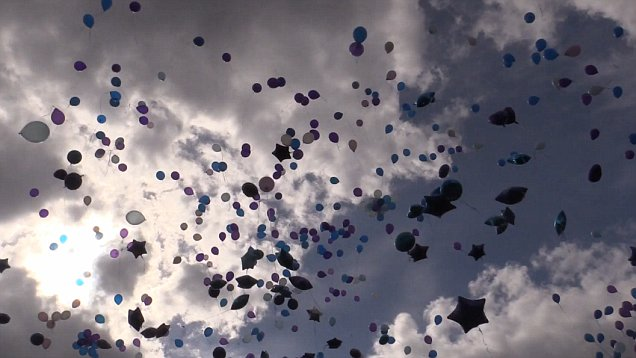Balloon: (447, 295, 489, 334), (421, 195, 456, 219), (20, 121, 51, 142), (495, 186, 528, 205), (489, 107, 517, 127), (440, 179, 462, 201), (552, 209, 568, 237), (394, 232, 416, 252), (128, 239, 148, 259), (408, 244, 429, 262), (468, 243, 487, 262), (272, 144, 291, 162), (289, 276, 313, 290), (64, 173, 83, 190), (230, 294, 249, 311), (499, 207, 516, 225), (126, 209, 145, 225), (241, 251, 257, 270), (416, 92, 435, 108), (306, 306, 322, 322), (588, 164, 602, 182), (51, 109, 65, 125), (259, 177, 275, 191), (484, 216, 506, 226), (67, 150, 82, 164), (349, 42, 364, 56), (353, 27, 367, 42), (242, 183, 258, 196), (326, 338, 343, 350), (82, 14, 95, 29), (564, 45, 580, 57), (544, 49, 559, 61), (30, 333, 44, 345), (438, 164, 450, 178), (212, 347, 227, 358), (96, 339, 112, 349), (584, 65, 599, 75), (384, 40, 395, 53), (619, 307, 632, 318), (612, 26, 623, 39), (581, 93, 592, 106), (129, 1, 141, 12), (268, 78, 280, 89), (303, 132, 314, 144), (535, 38, 546, 50), (612, 86, 623, 98), (74, 61, 87, 71), (349, 348, 362, 358), (590, 128, 600, 141), (526, 95, 539, 105), (531, 52, 541, 65), (54, 169, 65, 180), (38, 311, 49, 322), (524, 12, 535, 23), (348, 140, 358, 152), (308, 90, 321, 99), (409, 204, 422, 213), (101, 1, 112, 11), (95, 314, 106, 324), (281, 134, 291, 145), (293, 149, 303, 160), (288, 299, 298, 310), (274, 295, 285, 305), (329, 132, 339, 143), (193, 37, 205, 46), (385, 223, 394, 235), (606, 285, 618, 294), (559, 78, 571, 87), (111, 77, 121, 87), (294, 93, 304, 103), (109, 249, 119, 259), (203, 327, 213, 337), (584, 333, 594, 343), (470, 103, 480, 113), (503, 58, 513, 68), (114, 294, 123, 305), (52, 311, 61, 322), (1, 313, 10, 324), (379, 334, 388, 345), (386, 71, 397, 80), (593, 309, 602, 320), (626, 150, 635, 161), (137, 106, 149, 114), (329, 177, 341, 185), (70, 97, 80, 106), (139, 116, 148, 126), (95, 149, 105, 158), (39, 209, 49, 218), (61, 311, 71, 320), (453, 241, 462, 251), (375, 167, 385, 176), (231, 230, 240, 240), (320, 222, 329, 232), (615, 321, 624, 331), (110, 91, 121, 99), (120, 228, 128, 239), (199, 196, 210, 204), (267, 208, 275, 219), (496, 159, 507, 167), (222, 53, 231, 62), (156, 171, 165, 180), (171, 171, 180, 180), (30, 188, 39, 197), (96, 131, 105, 140), (175, 339, 184, 348), (221, 193, 230, 202), (236, 208, 245, 217), (291, 139, 300, 148), (428, 349, 437, 358), (353, 188, 362, 197), (315, 203, 324, 212), (257, 224, 266, 233), (290, 231, 299, 240), (385, 125, 394, 134), (373, 189, 382, 198), (604, 306, 613, 315), (111, 64, 121, 72), (110, 99, 120, 107), (212, 144, 222, 152), (252, 84, 262, 92), (144, 295, 152, 305), (184, 187, 194, 195), (241, 149, 251, 157), (434, 315, 442, 325), (219, 338, 229, 346), (328, 317, 336, 327), (226, 271, 234, 281), (266, 254, 276, 262), (401, 103, 411, 111), (376, 212, 384, 222), (552, 293, 560, 303), (391, 153, 398, 164), (158, 72, 166, 81), (111, 155, 120, 163), (97, 115, 106, 123), (84, 196, 92, 205), (59, 234, 67, 243), (102, 137, 110, 146), (173, 256, 182, 264), (72, 299, 80, 308), (133, 338, 141, 347), (116, 142, 125, 150), (219, 162, 227, 171), (193, 233, 202, 241), (250, 202, 259, 210), (274, 171, 282, 180), (424, 336, 432, 345), (369, 323, 377, 332), (250, 327, 259, 335), (219, 298, 227, 307), (333, 202, 342, 210), (196, 253, 204, 262), (203, 277, 211, 286), (271, 230, 280, 238), (263, 293, 272, 301), (324, 251, 332, 260), (310, 120, 319, 128), (397, 82, 405, 91), (419, 154, 428, 162), (437, 144, 445, 153), (383, 195, 391, 204), (359, 235, 368, 243), (219, 232, 226, 242), (272, 273, 279, 283), (275, 241, 285, 248), (597, 333, 604, 343), (84, 329, 92, 337), (79, 347, 87, 355), (116, 339, 124, 347), (211, 247, 219, 255), (352, 81, 360, 89), (372, 98, 380, 106), (447, 129, 455, 137), (341, 274, 349, 282), (118, 164, 127, 171), (404, 346, 411, 355), (257, 232, 266, 239), (213, 274, 222, 281), (257, 279, 264, 288), (281, 310, 290, 317), (317, 271, 326, 278), (309, 229, 318, 236), (334, 112, 343, 119), (71, 143, 79, 150), (96, 232, 103, 240), (47, 320, 54, 328), (180, 223, 188, 230), (195, 217, 203, 224), (291, 162, 298, 170), (247, 311, 255, 318), (291, 325, 298, 333), (275, 193, 283, 200), (266, 281, 273, 289), (283, 269, 290, 277), (356, 119, 363, 127), (408, 111, 416, 118), (403, 148, 410, 156), (432, 123, 439, 131), (356, 245, 363, 253), (342, 219, 349, 227), (343, 231, 351, 238), (348, 225, 355, 233), (354, 295, 361, 303), (359, 274, 366, 282), (50, 243, 57, 250), (93, 226, 100, 233), (206, 169, 213, 176), (227, 284, 234, 291), (302, 242, 309, 249), (300, 234, 307, 241), (362, 100, 369, 107), (364, 88, 371, 95), (448, 148, 455, 155), (312, 236, 320, 242), (337, 250, 343, 257), (334, 289, 340, 296), (430, 153, 436, 160), (456, 146, 462, 153), (207, 261, 212, 267), (325, 297, 330, 302)
